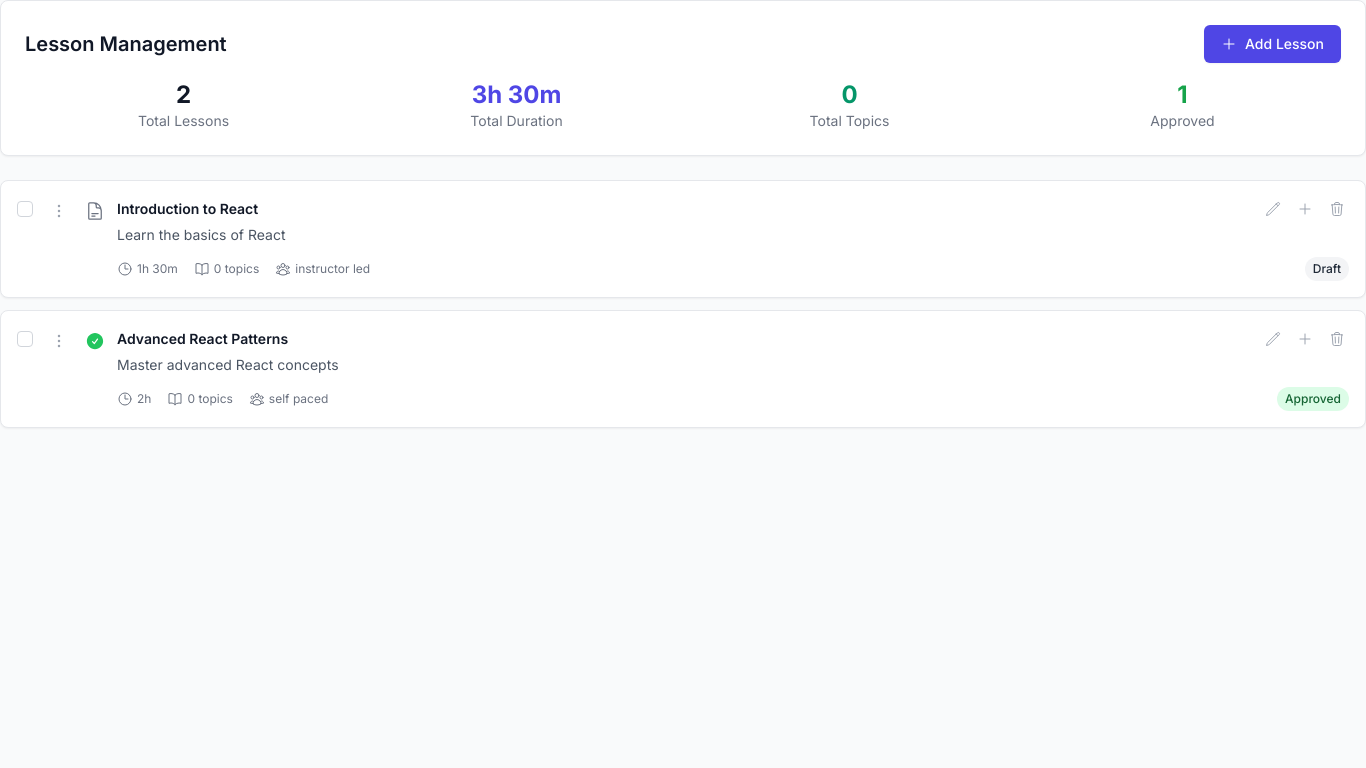
Test: LessonManager › opens create lesson form when Add Lesson button is clicked
Click the button "Add Lesson" at (1272, 44), box [1204, 25, 1341, 63]
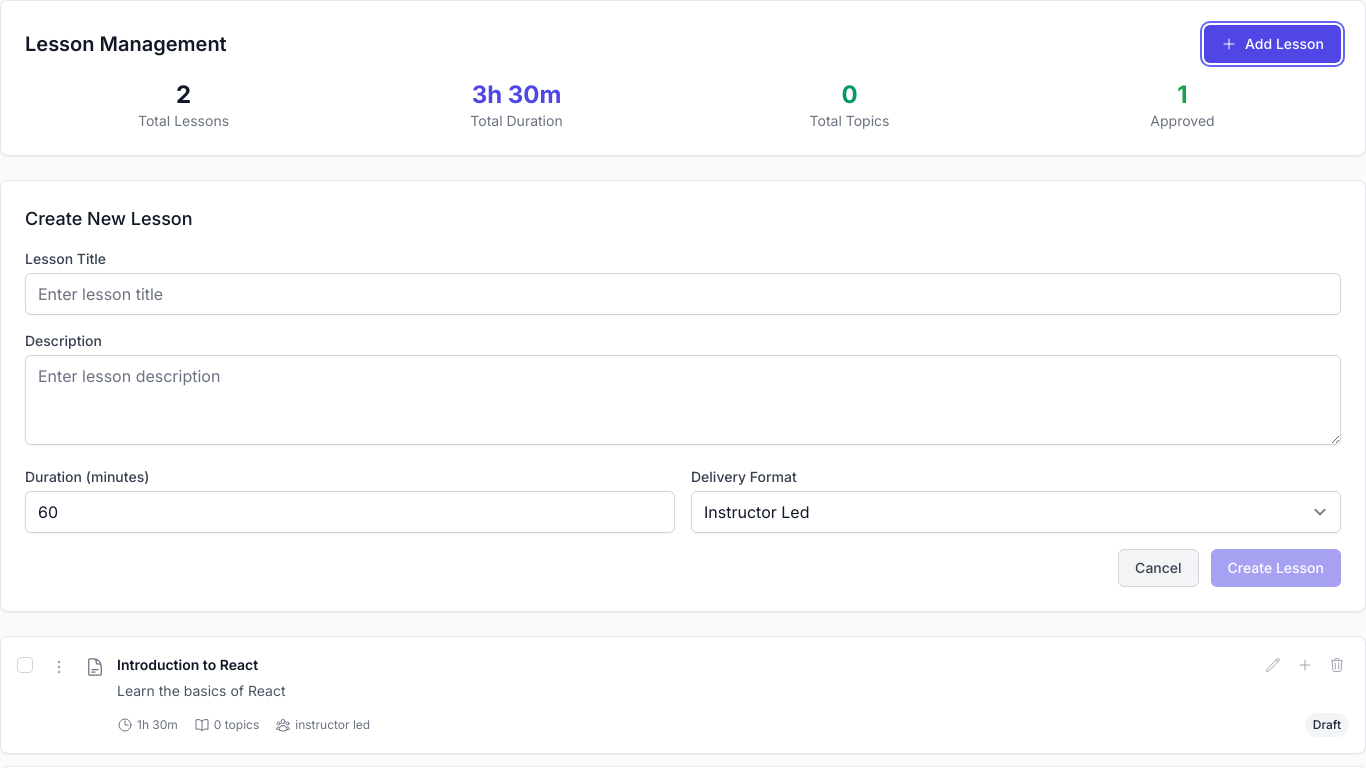
Check: the heading "Create New Lesson" is shown, box [25, 208, 193, 229]
Check: the field labelled "Lesson Title" is shown, box [25, 273, 1341, 315]
Check: the text box labelled "Description" is shown, box [25, 355, 1341, 445]
